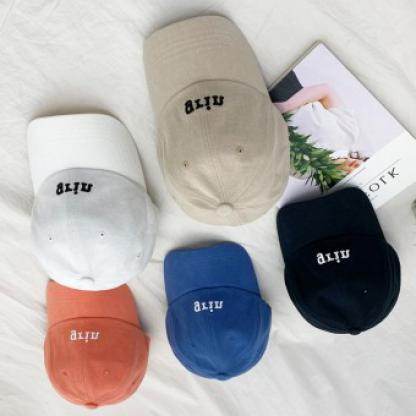cap: (140, 14, 292, 233)
